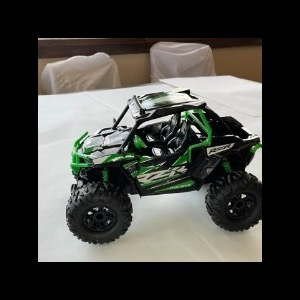polaris: (66, 85, 261, 245)
